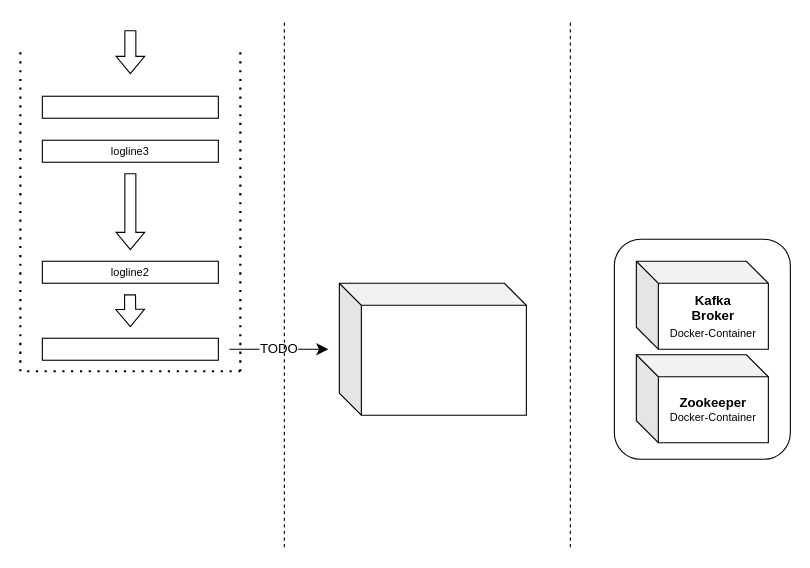
Image size: 810x568. Some labels were removed from this diagram. Here are the shapes that lost their labels. From the top down, the centre of each, then its label:
At (x=129, y=106): "logline4".
At (x=129, y=348): "logline1".
